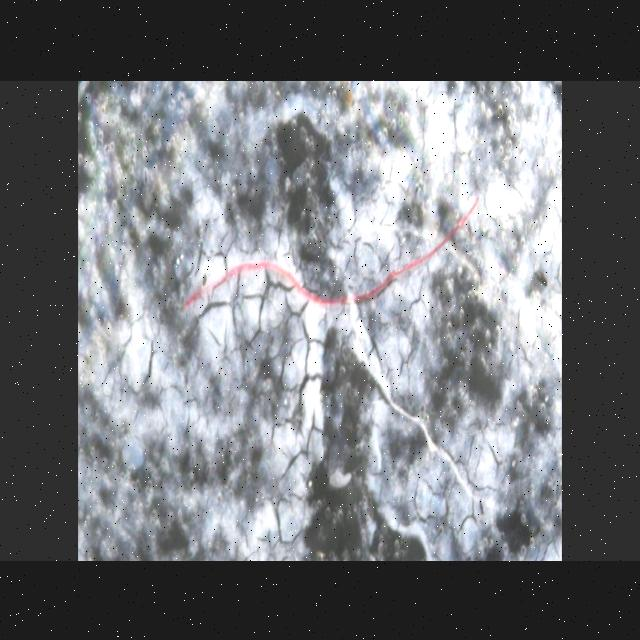Fibre: (176, 188, 489, 322)
